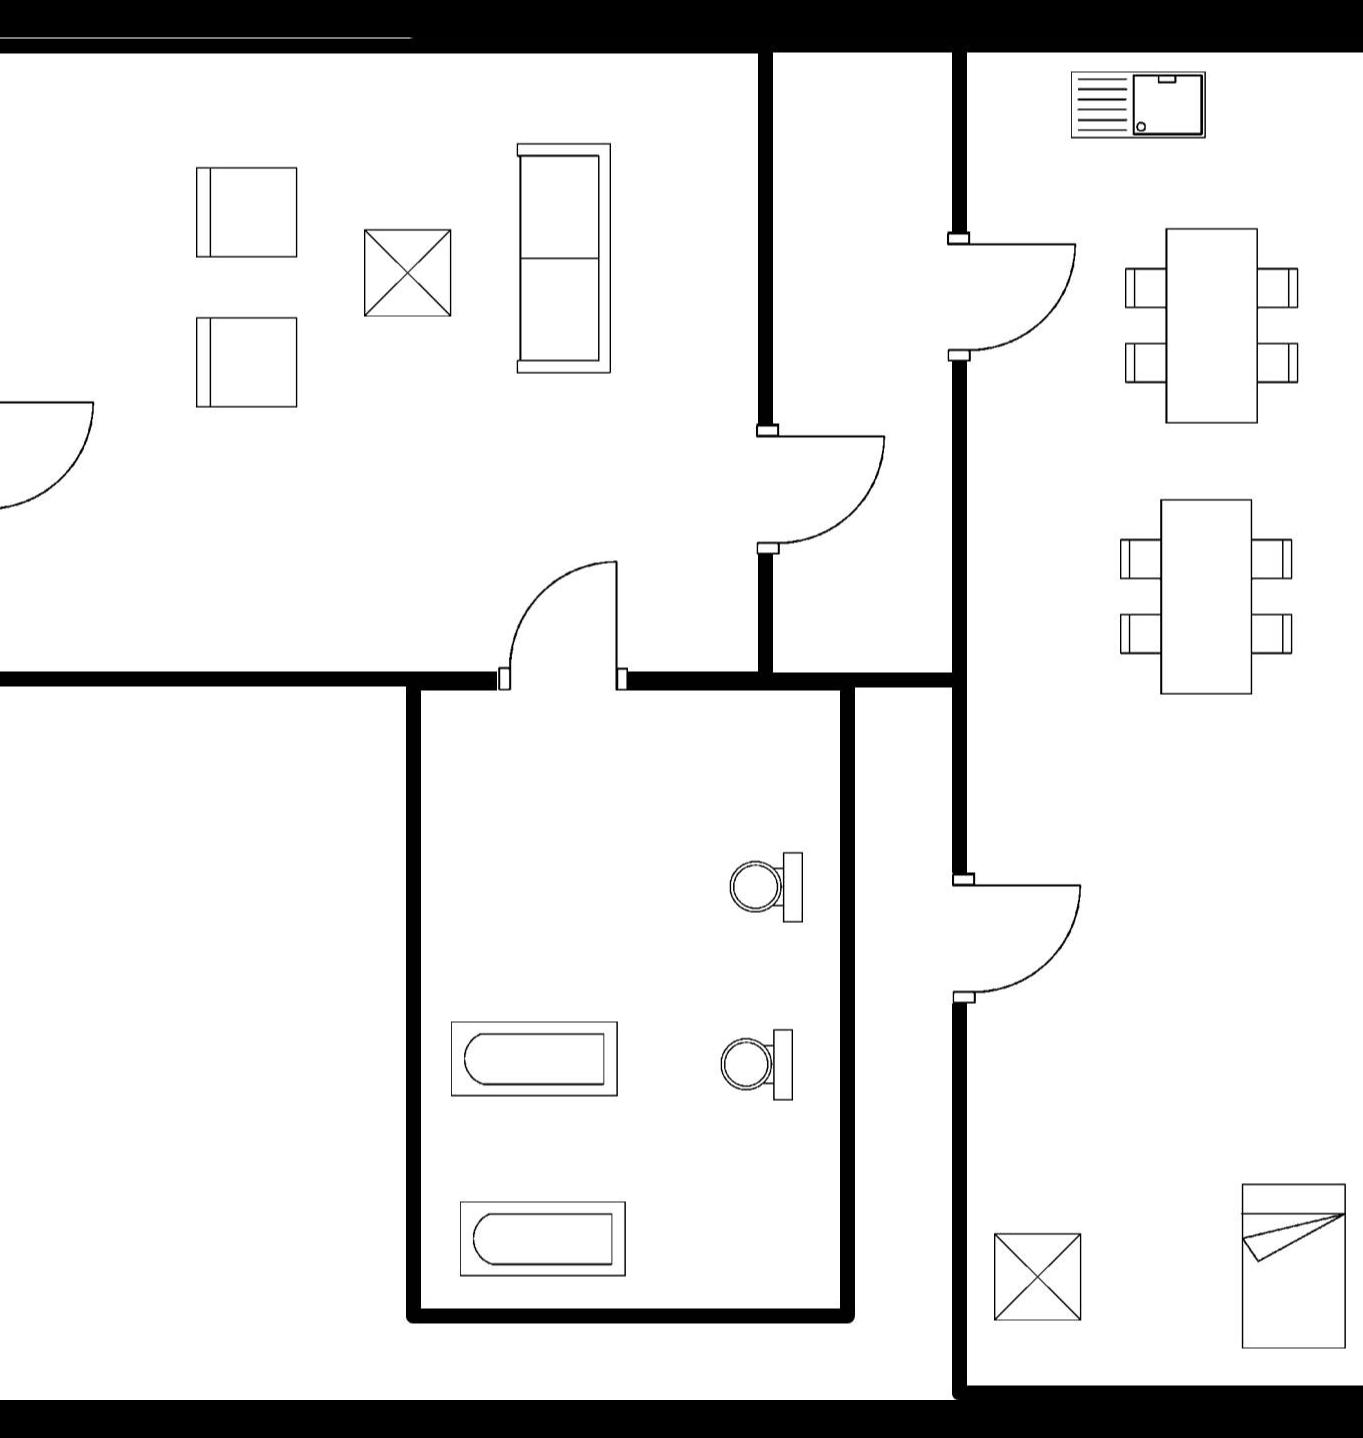bed: (1230, 1168, 1351, 1357)
dining_table: (1106, 481, 1305, 709), (1117, 213, 1309, 435)
sink: (1062, 64, 1216, 151)
sofa: (501, 129, 625, 388)
toilet: (710, 1012, 806, 1111), (720, 837, 808, 931)
tub: (438, 1005, 630, 1109), (448, 1191, 633, 1284)
